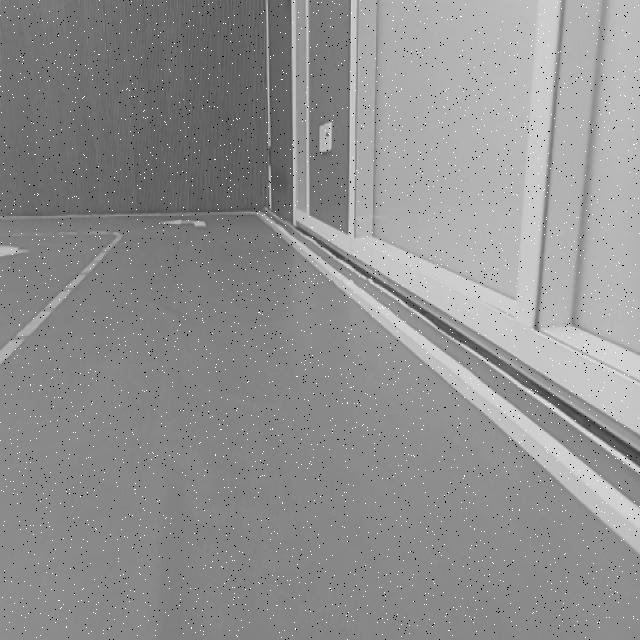left_lane: (0, 236, 118, 366)
right_lane: (268, 217, 640, 554)
